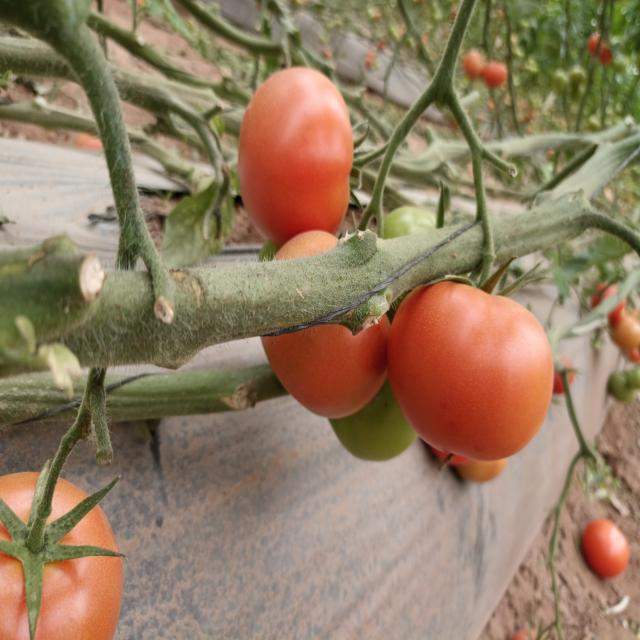Ripe Tomato: (386, 280, 554, 456), (268, 235, 391, 417), (0, 472, 123, 640), (243, 66, 352, 232), (579, 515, 630, 578)
